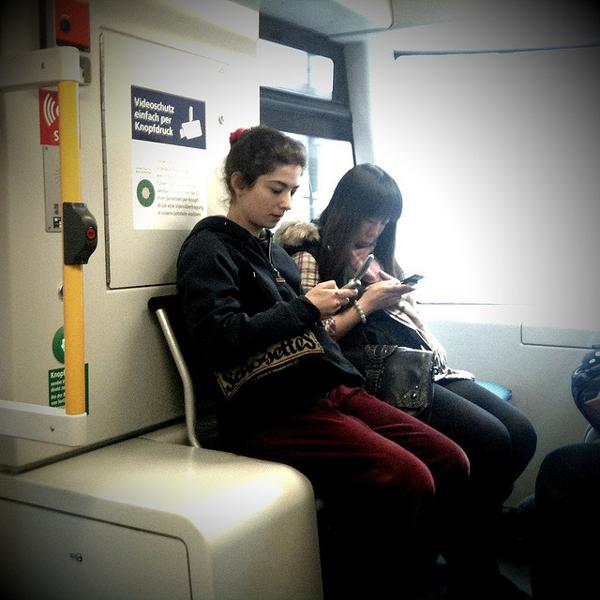person: (174, 128, 472, 589)
